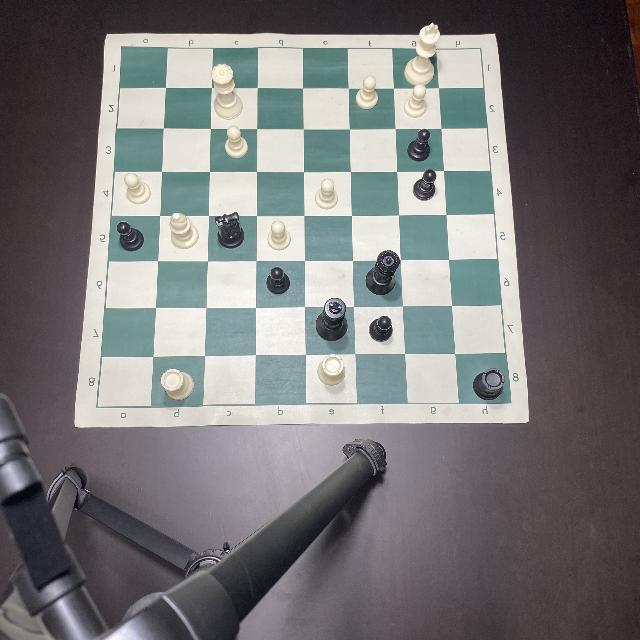black-king: (316, 296, 348, 342)
black-knight: (213, 212, 244, 248)
black-pawn: (117, 222, 145, 250), (368, 315, 394, 343), (414, 168, 436, 200), (266, 266, 290, 294), (408, 130, 430, 160)
black-queen: (364, 250, 400, 296)
black-rook: (472, 368, 504, 402)
board: (74, 35, 528, 428)
white-bishop: (170, 211, 198, 249)
white-king: (404, 22, 441, 86)
white-pawn: (354, 77, 382, 109), (402, 84, 428, 118), (314, 178, 340, 210), (124, 173, 150, 204), (225, 126, 248, 158), (268, 220, 290, 250)
white-queen: (214, 64, 242, 118)
white-rook: (161, 368, 193, 399), (317, 355, 345, 385)
